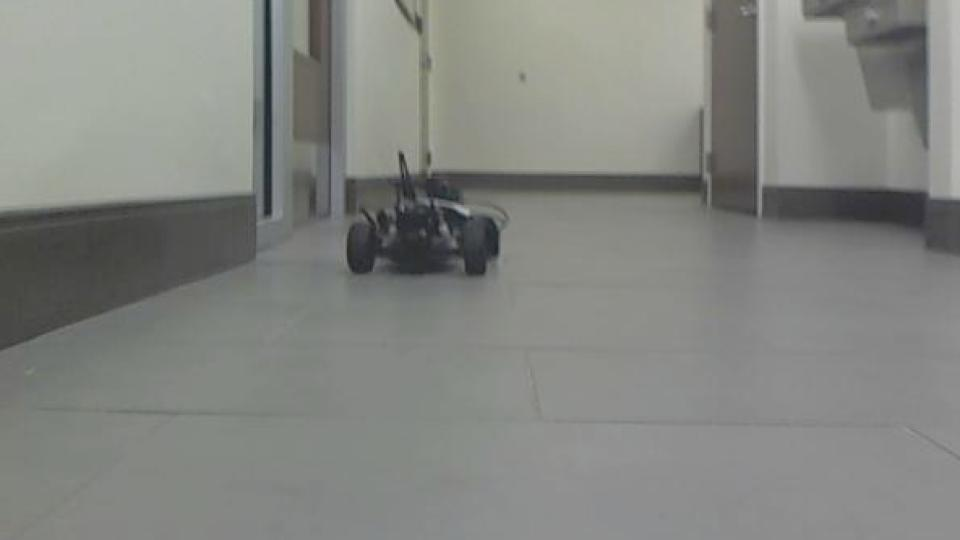car: (344, 146, 512, 280)
